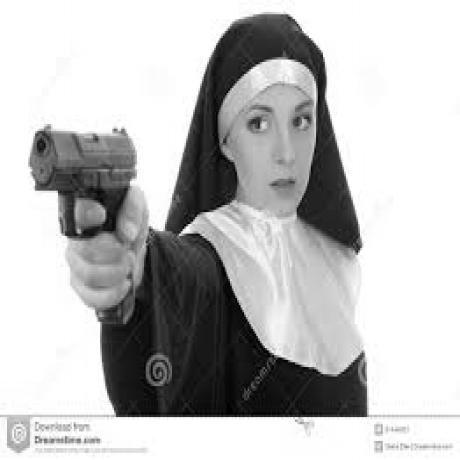Guns: (26, 116, 148, 322)
